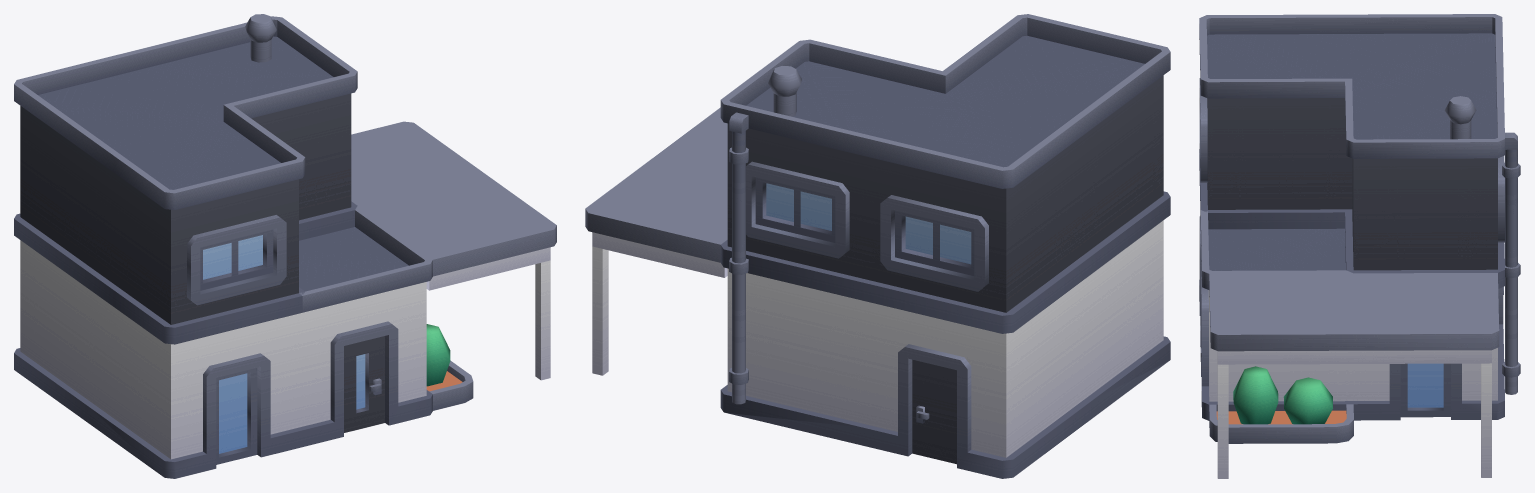
The model's file is building-type-q.009_lev3.glb.
3 renders of one model, left to right at view 1: azimuth 30°, elevation 25°; view 2: azimuth 150°, elevation 25°; view 3: azimuth 270°, elevation 25°, orthographic. The views are drawn at different scales.
Parts seen in each view (by area): view 1: building-type-q.009_lev3; view 2: building-type-q.009_lev3; view 3: building-type-q.009_lev3.
Boxes of the visible parts, x1=… form: building-type-q.009_lev3: x1=14, y1=14, x2=556, y2=478; building-type-q.009_lev3: x1=585, y1=14, x2=1170, y2=478; building-type-q.009_lev3: x1=1199, y1=14, x2=1520, y2=478.
Size of the model in its own units: 4.99 by 3.67 by 3.56.
Materials: 1 (1 with a texture image).
